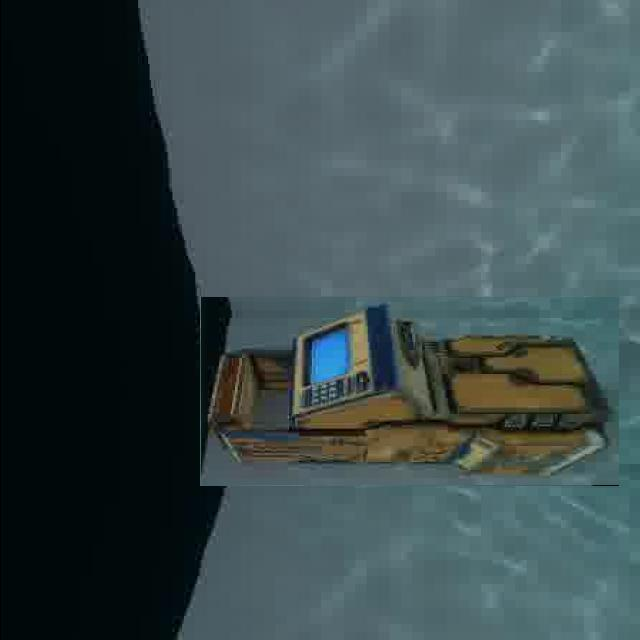Control Panel: (199, 297, 618, 486)
